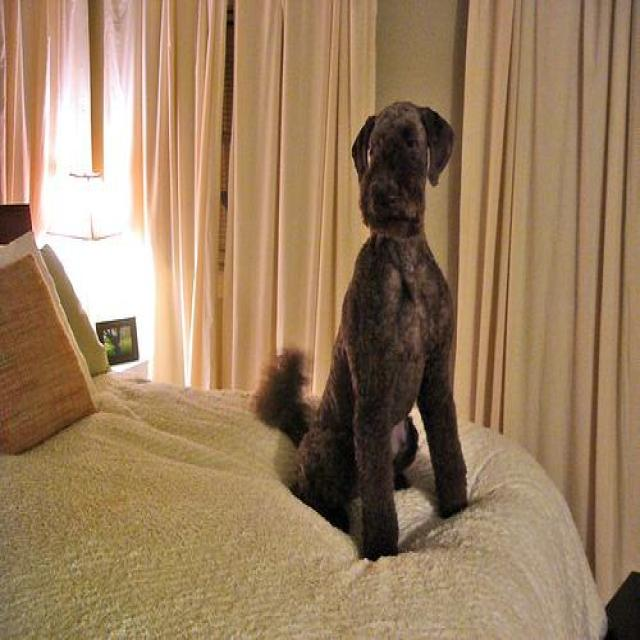airedale: (252, 97, 471, 563)
